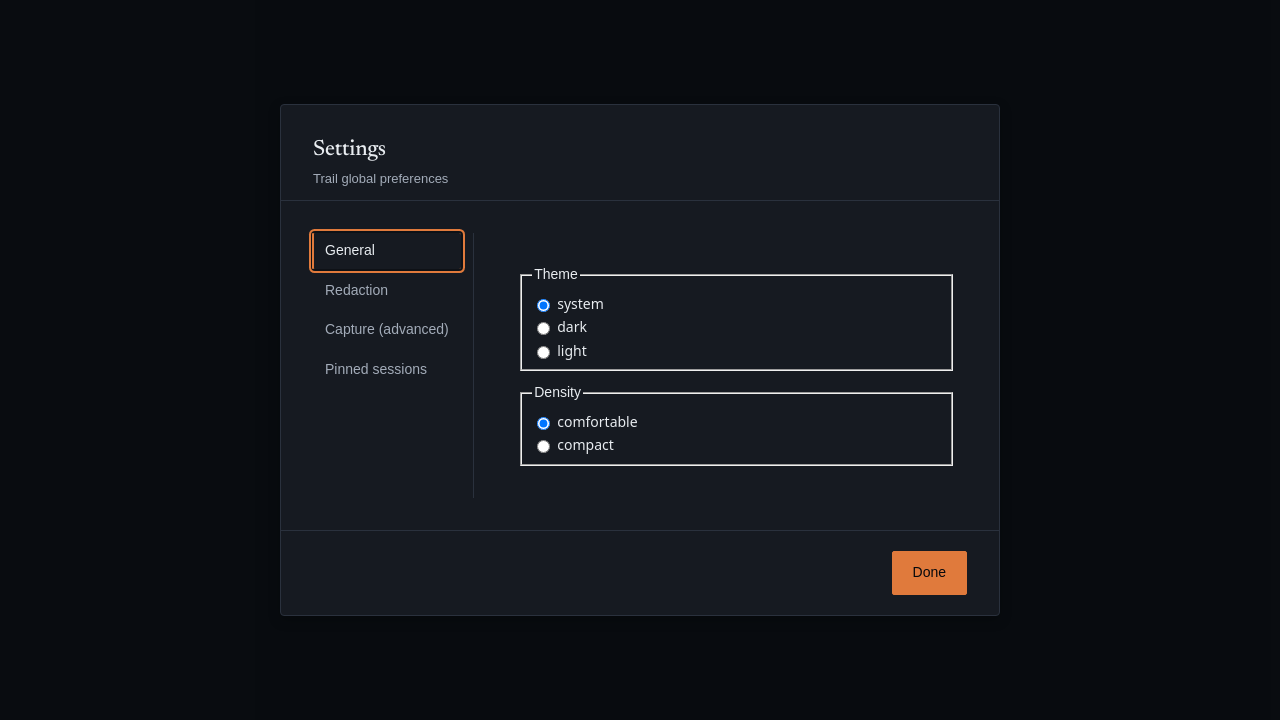
M6 Settings → Capture × detect_capture_cli (gh#17) › success: auto-fills path, shows ✓ verified with version, surfaces detection source
Click the tab "Capture (advanced)".
click(387, 330)  # box [313, 312, 461, 348]
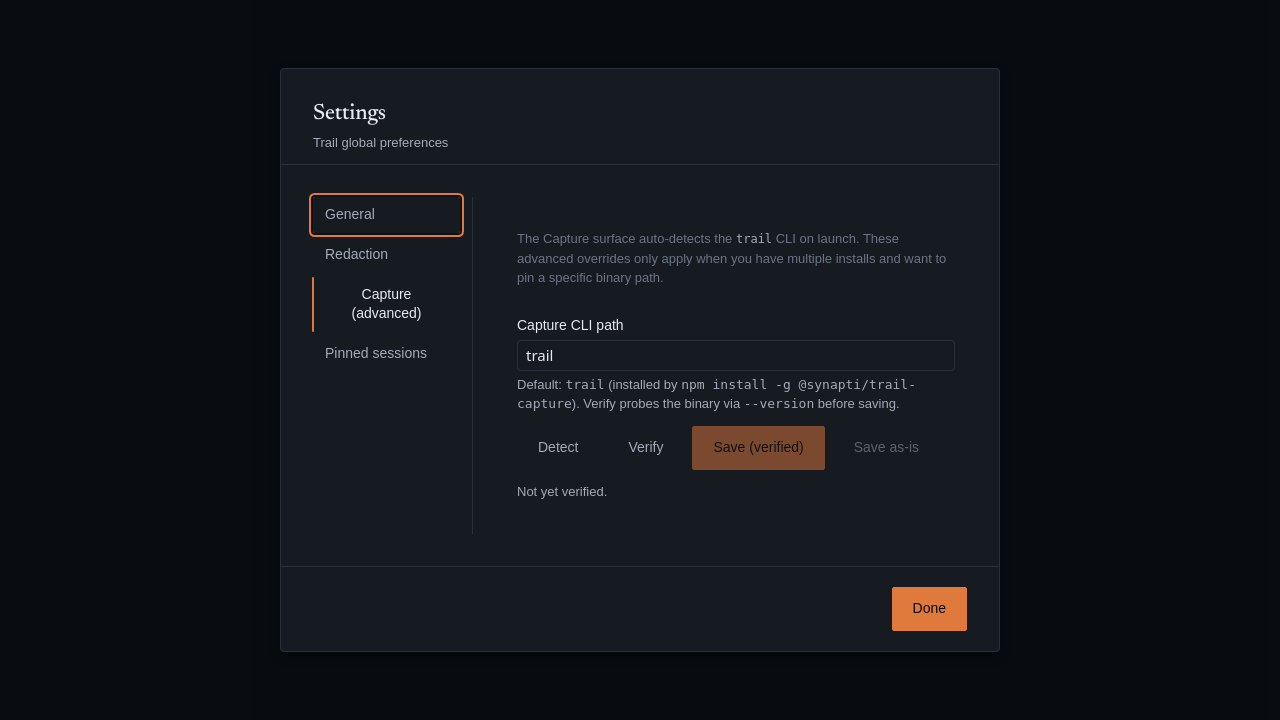
Expected: the field with placeholder "trail" holds "trail", [517, 340, 955, 370]
Click the button with test id "m6-capture-detect".
click(558, 448)  # box [517, 426, 600, 470]
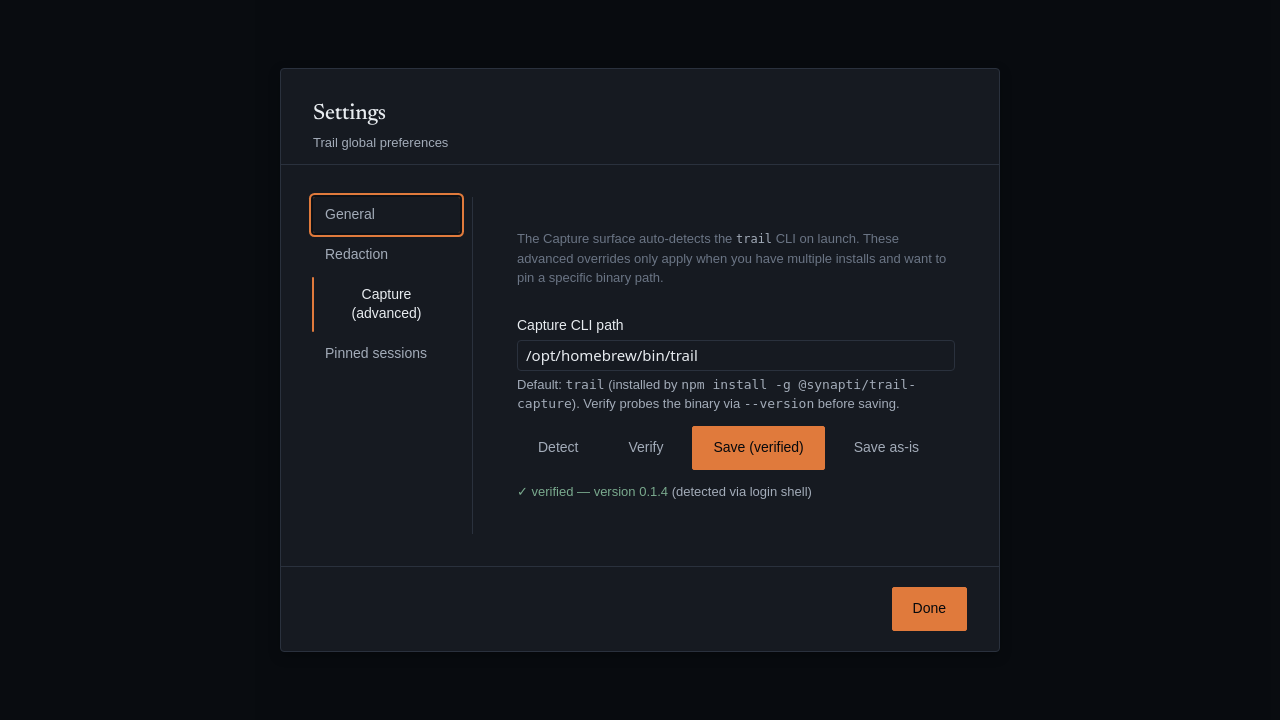
Expected: the element with test id "m6-capture-verified" is shown, [517, 484, 812, 498]
Expected: the field with placeholder "trail" holds "/opt/homebrew/bin/trail", [517, 340, 955, 370]
Expected: the element with test id "m6-capture-verified" shows "0.1.4", [639, 484, 668, 498]
